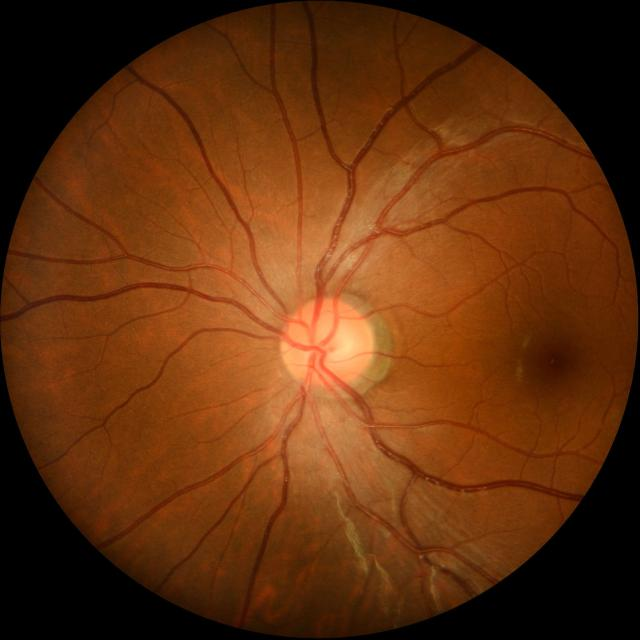OC: (310, 329, 350, 364)
OD: (280, 299, 372, 388)
